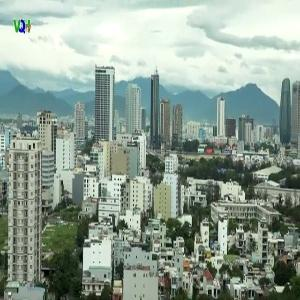drone: (113, 131, 200, 218)
